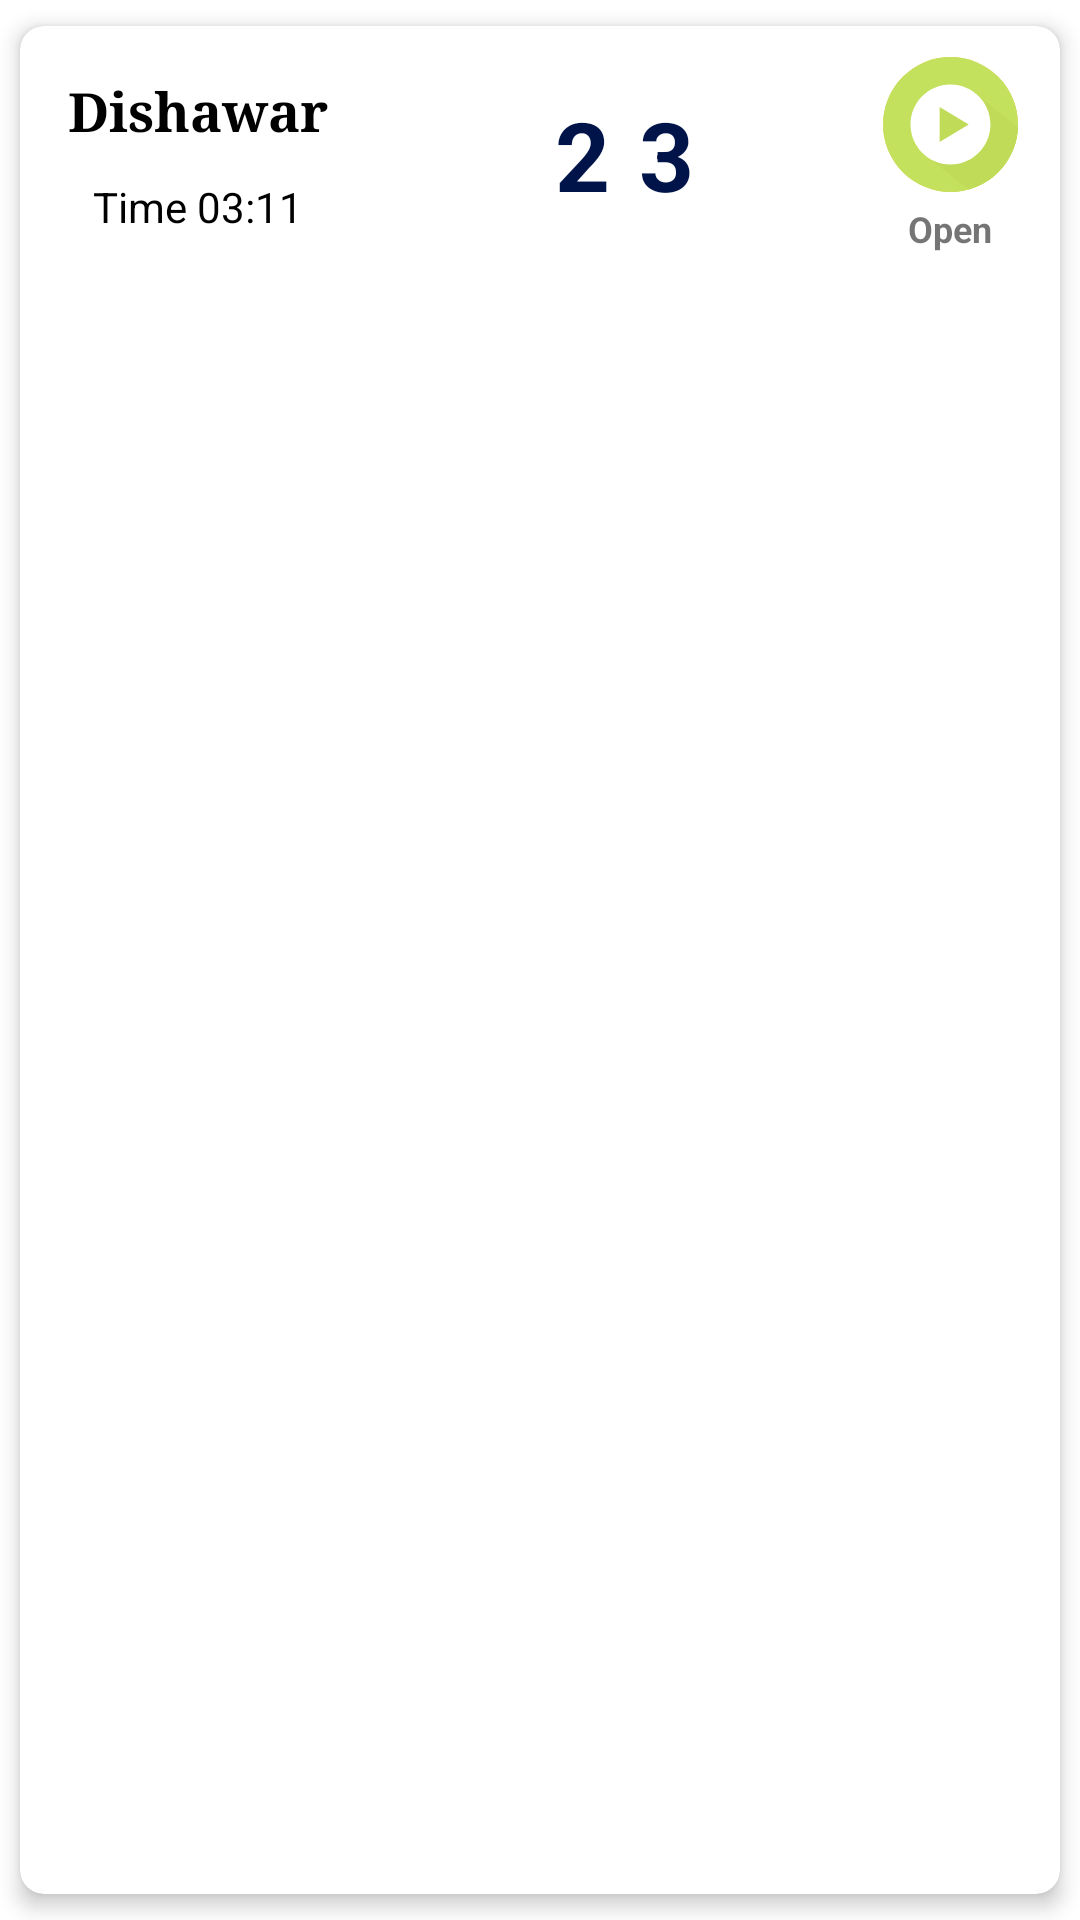

Locate icon controls on the screen. Image size 1080 × 1920, boxes as [left=x1, top=y1, right=x2, bottom=y2].
kvip play: [left=883, top=57, right=1018, bottom=192]
